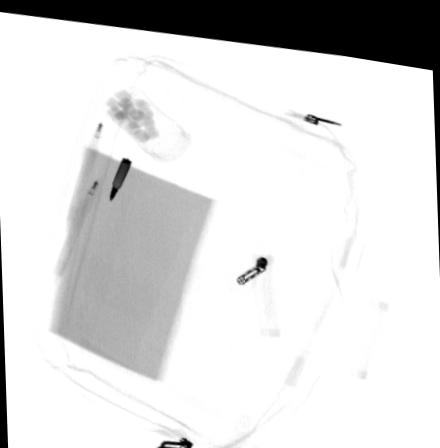Bullet: (108, 153, 131, 198)
